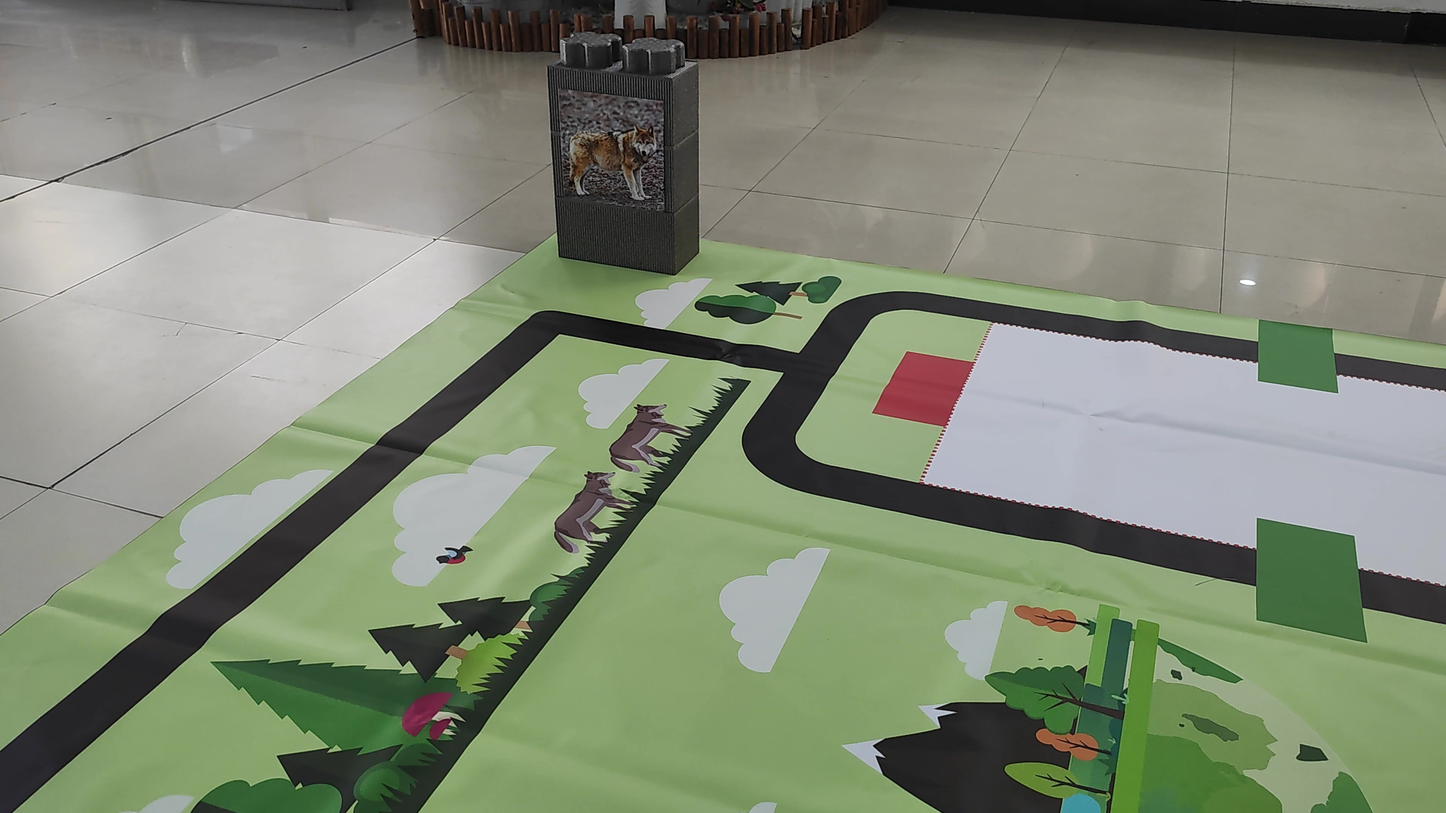wolf: (554, 111, 671, 205)
